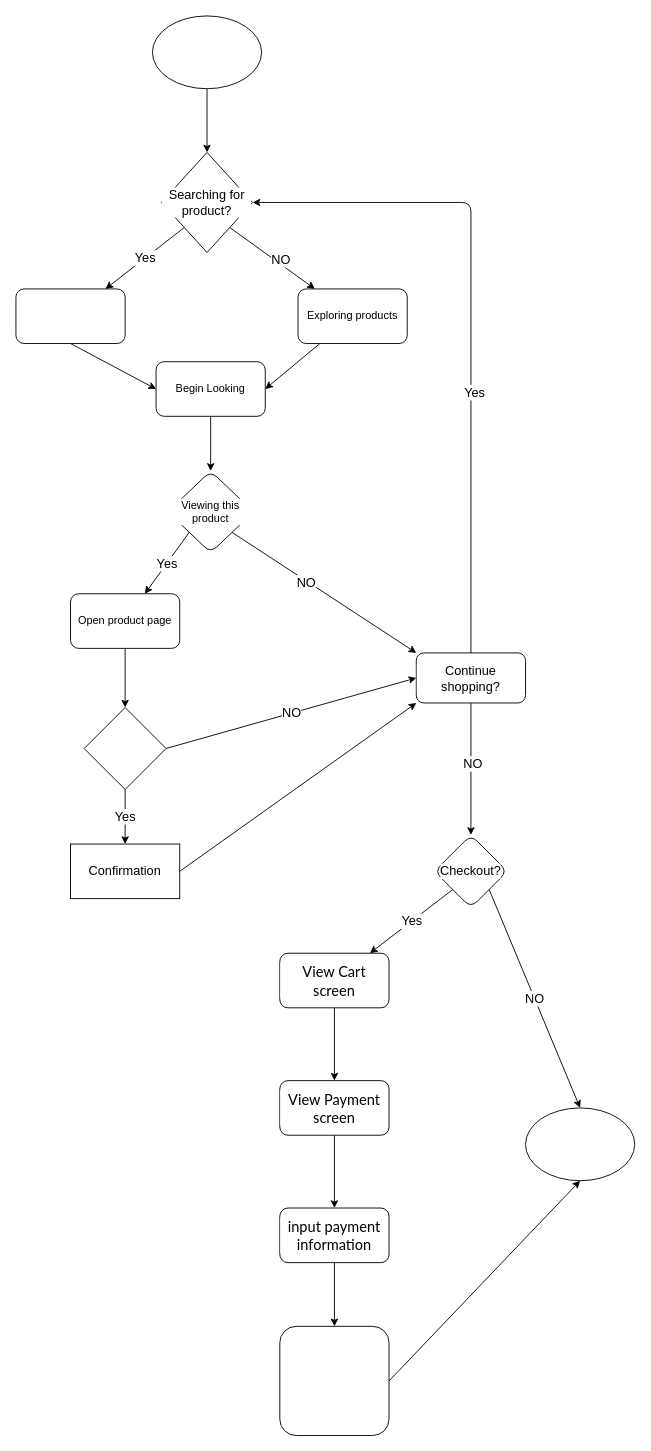
Some shapes in this 651 by 1451 pixel diagram are drawn without their labels. The shapes that lost their labels are listed below. From the top down, each one's centre as x and y in pixels, then its label:
the point at 207,52: Enter website
the point at 70,316: Provide input
the point at 124,748: Add to cart?
the point at 580,1144: Leave website
the point at 334,1380: order confirmation screen and recieve an email
